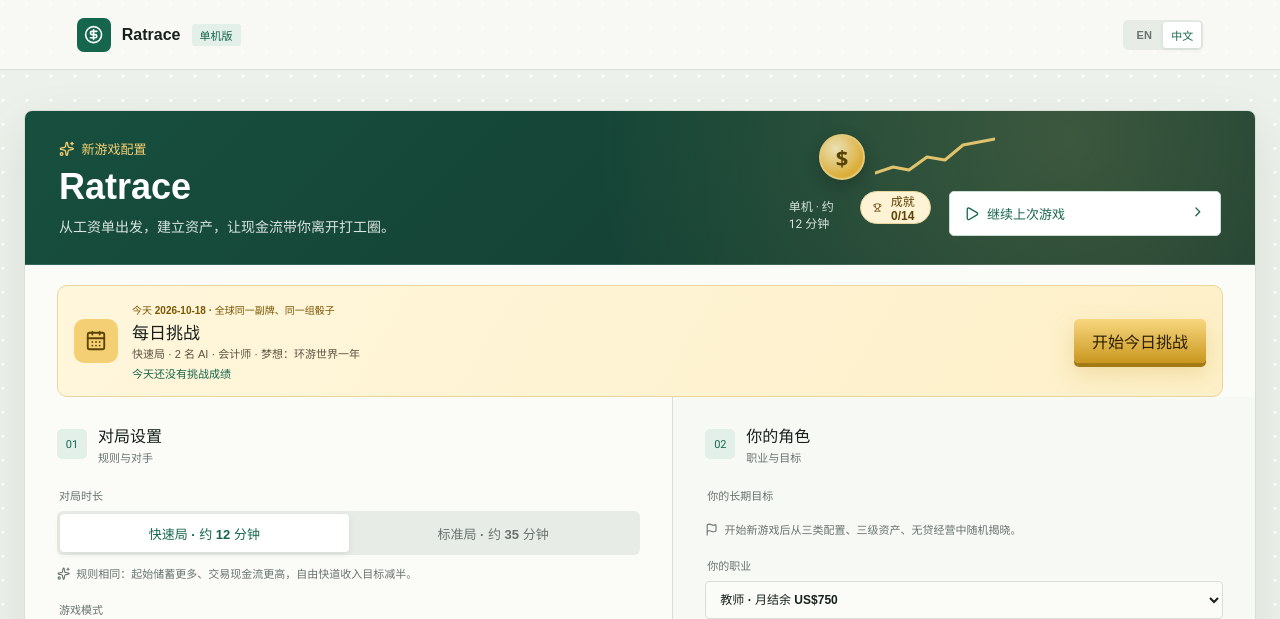
cashflow app › shows purchased Fast Track businesses as separate holdings
What coordinates should you click on to do the following:
click the button "继续上次游戏"
I would click on:
 (1026, 215)
Its box is [948, 191, 1221, 236].
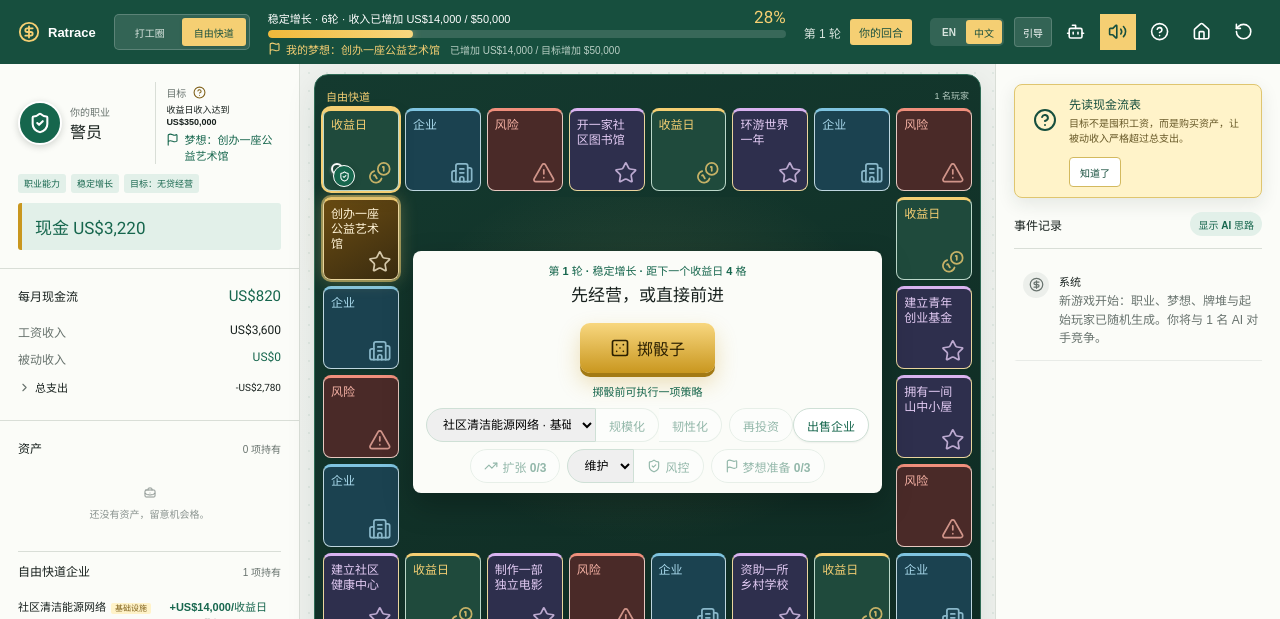
Result: the text "自由快道企业" is shown at [18, 562, 90, 579]
Result: the text "社区清洁能源网络" is shown at [18, 601, 106, 613]
Result: the text "+US$14,000/收益日" is shown at [170, 598, 267, 614]
